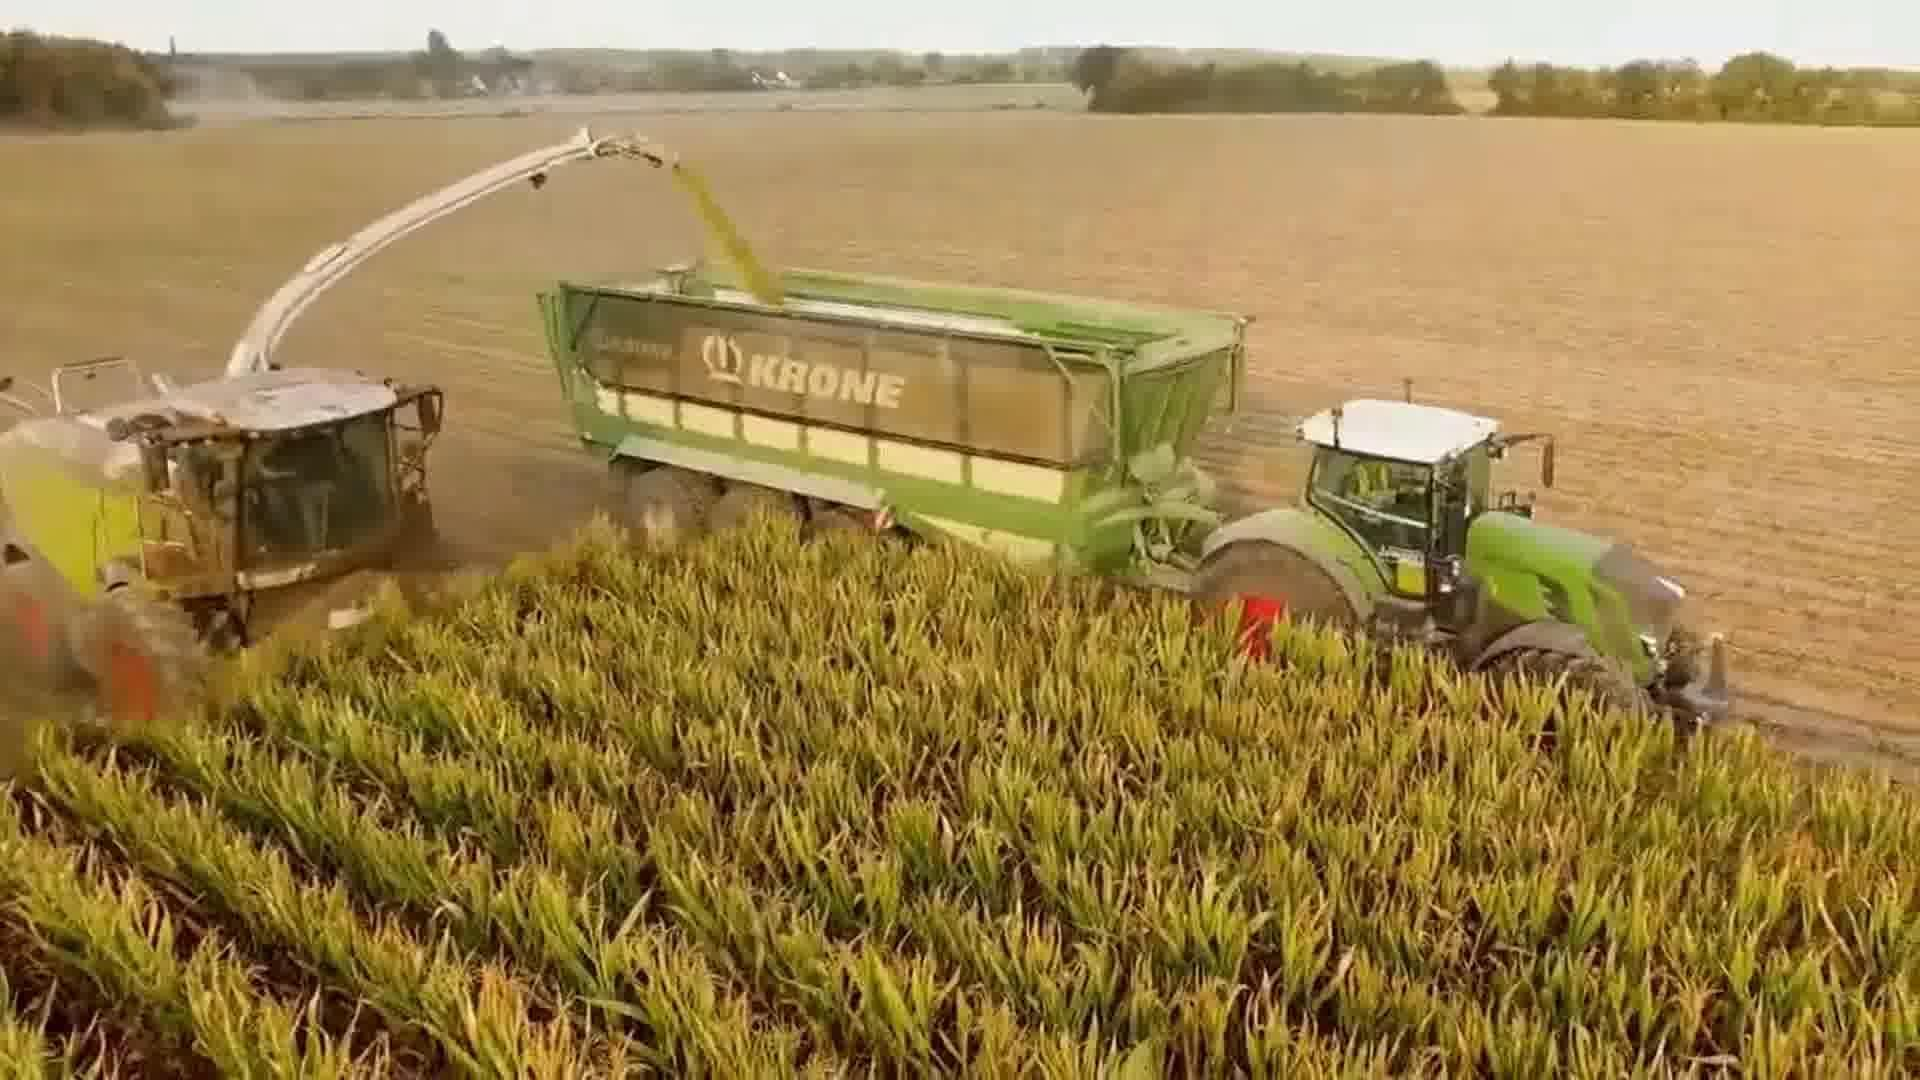combine harvester: (0, 115, 684, 752)
tractor: (1187, 377, 1742, 748)
trailer: (533, 245, 1261, 604)
